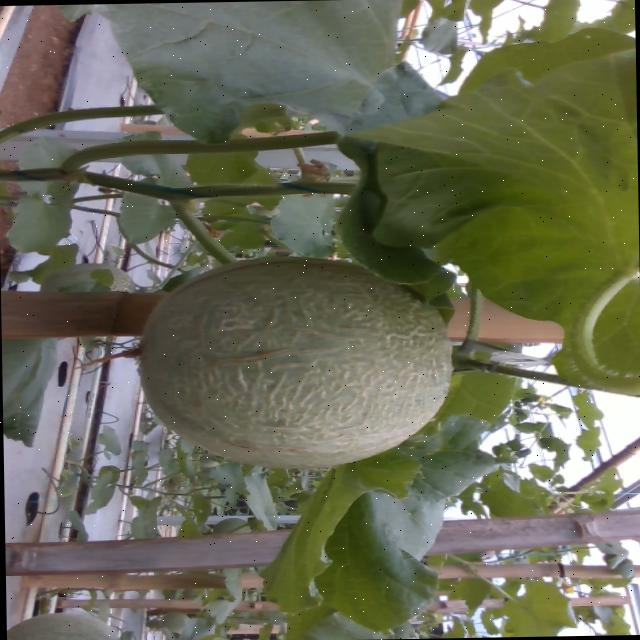melon: (139, 258, 450, 469)
